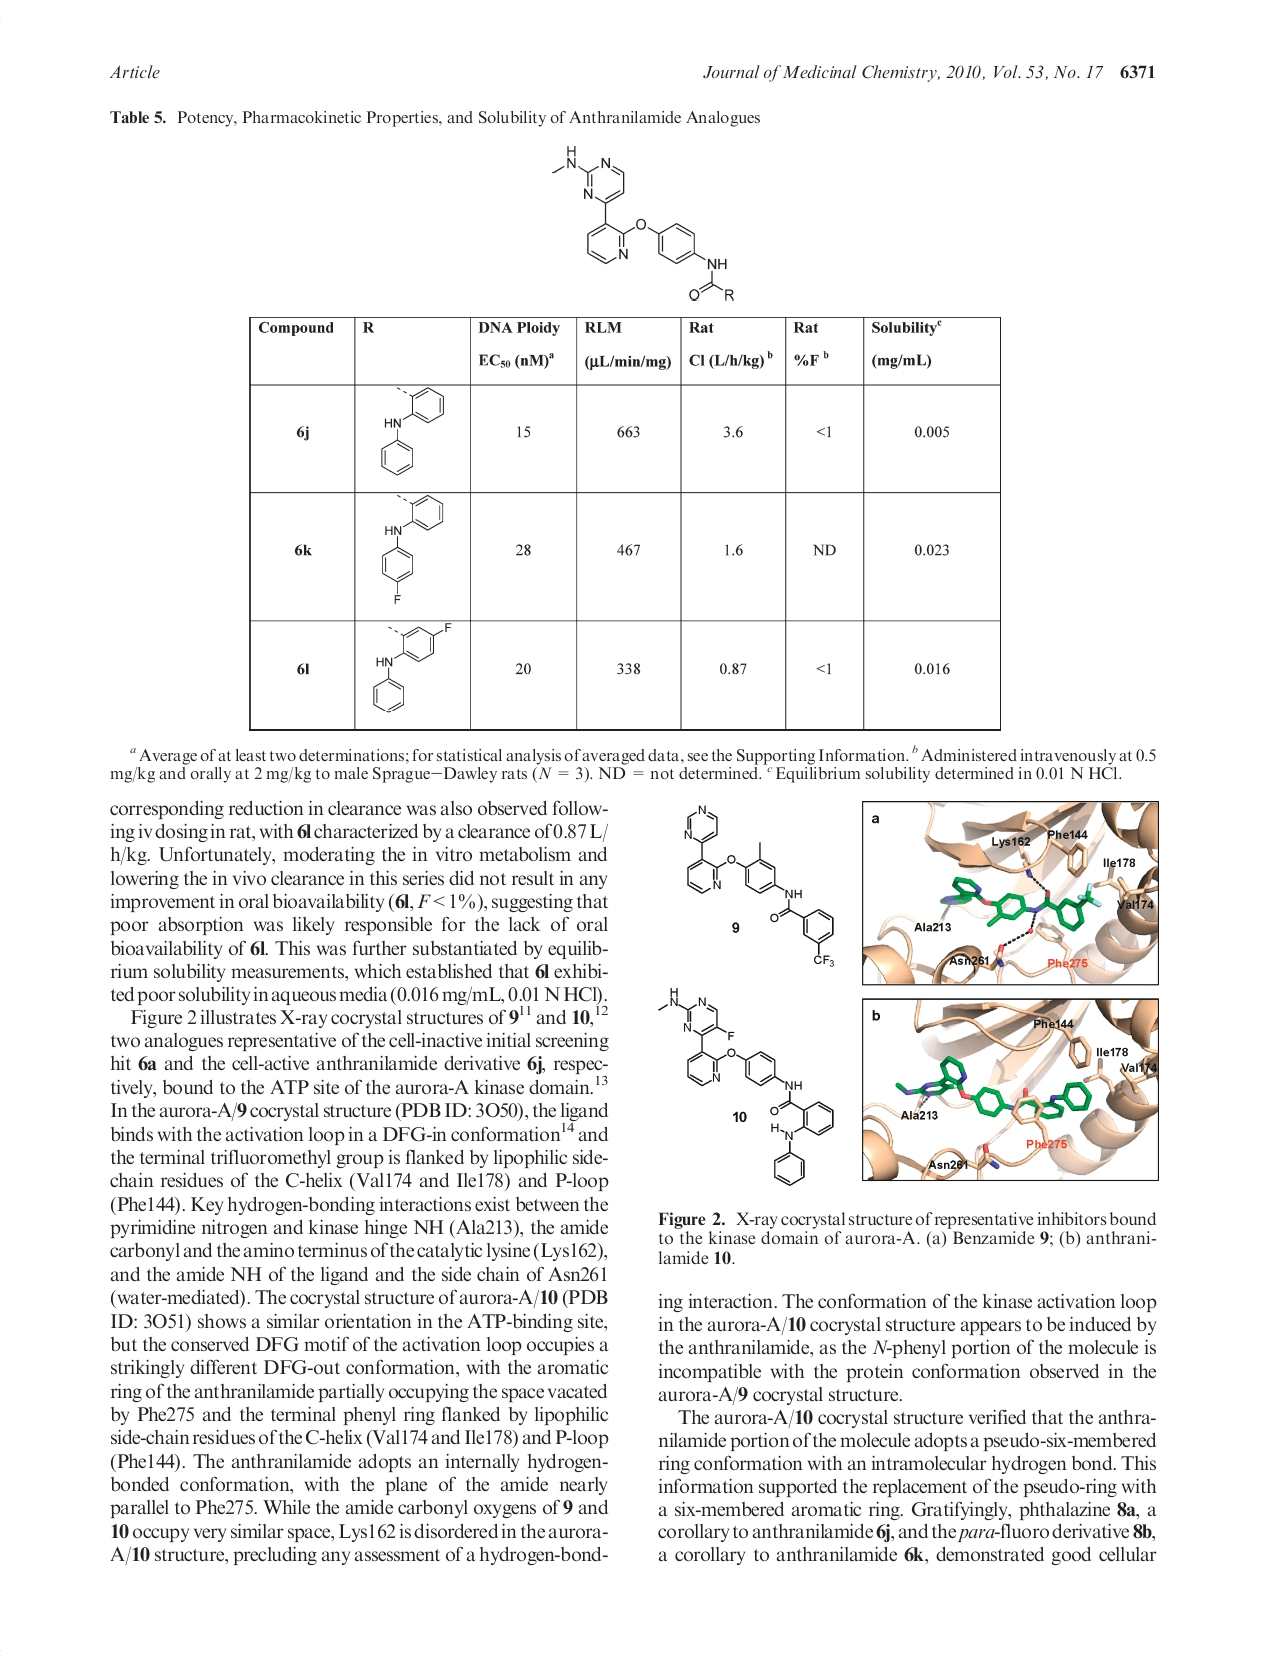exist_molecular: (656, 984, 838, 1186), (549, 144, 739, 303), (682, 805, 835, 968), (371, 622, 453, 715), (379, 493, 447, 606), (379, 387, 445, 479)
